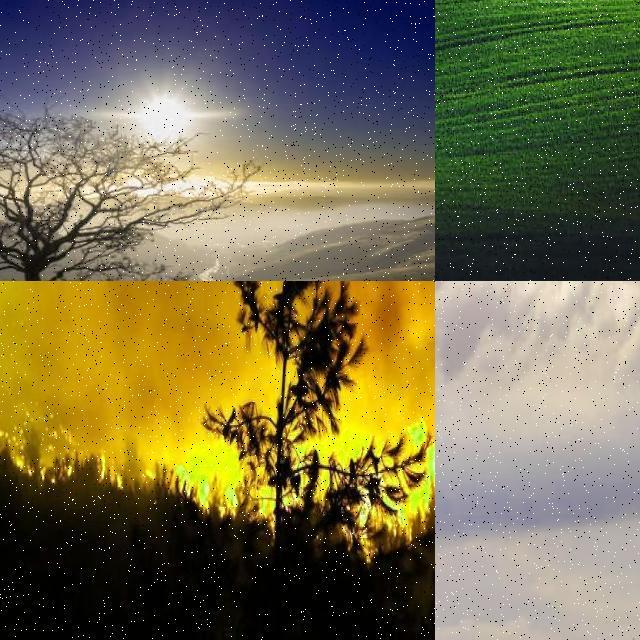tree: (210, 281, 434, 537), (0, 92, 212, 280), (518, 0, 582, 46)
